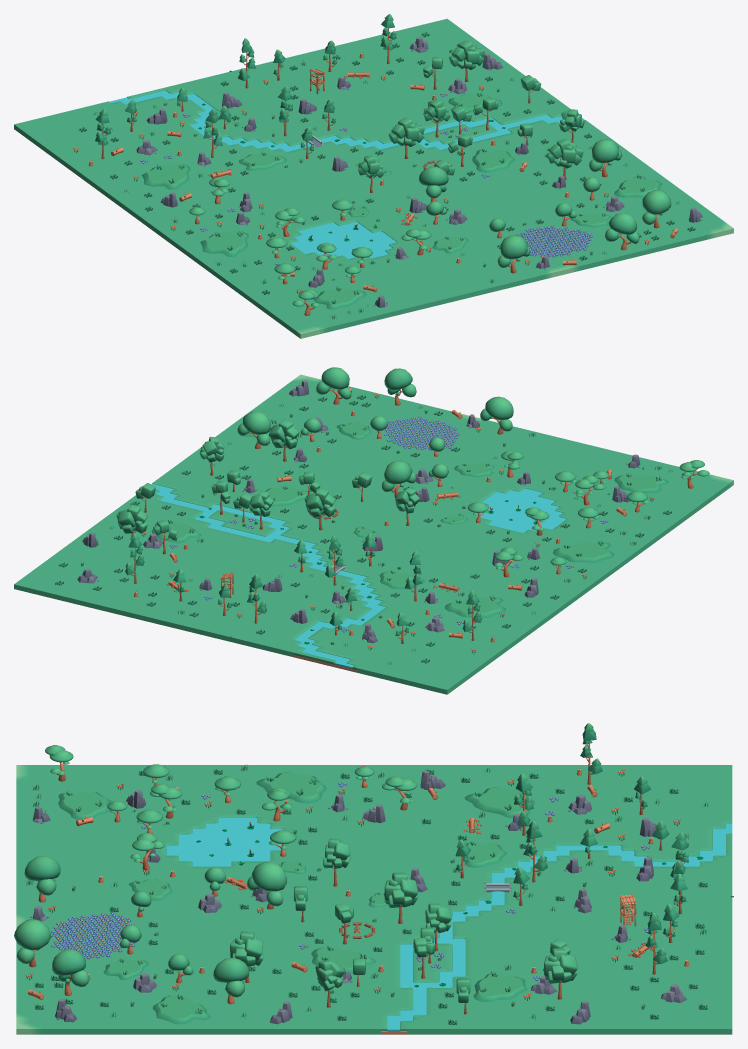
File: Forest-transformed.glb
3 renders of one model, top to bottom at view 1: azimuth 30°, elevation 25°; view 2: azimuth 150°, elevation 25°; view 3: azimuth 270°, elevation 25°, orthographic. The views are drawn at different scales.
Parts seen in each view (by area): view 1: bridge_side_stoneRound, Tree_2_A_Color1, rock-a, patch-grass-foliage, flowers-tall, square_forestToPlain2; view 2: bridge_side_stoneRound, Tree_2_A_Color1, rock-a, patch-grass-foliage, flowers-tall; view 3: bridge_side_stoneRound, Tree_2_A_Color1, rock-a, patch-grass-foliage, flowers-tall, square_forestToPlain2.
Part boxes in pixels (box(x1,y1,x2,y2)): bridge_side_stoneRound: box(14, 18, 723, 334); Tree_2_A_Color1: box(91, 14, 679, 319); rock-a: box(78, 32, 702, 307); patch-grass-foliage: box(141, 92, 662, 309); flowers-tall: box(73, 71, 649, 293); square_forestToPlain2: box(295, 221, 733, 338); bridge_side_stoneRound: box(14, 381, 728, 694); Tree_2_A_Color1: box(80, 367, 709, 665); rock-a: box(55, 380, 671, 663); patch-grass-foliage: box(151, 419, 668, 617); flowers-tall: box(140, 394, 654, 653); bridge_side_stoneRound: box(16, 765, 732, 1034); Tree_2_A_Color1: box(14, 723, 708, 1019); rock-a: box(28, 768, 733, 1024); patch-grass-foliage: box(58, 771, 534, 1024); flowers-tall: box(25, 765, 680, 1000); square_forestToPlain2: box(16, 765, 42, 1034).
Size of the model in its own units: 96 by 11.42 by 111.
8 materials, 8 textured.
